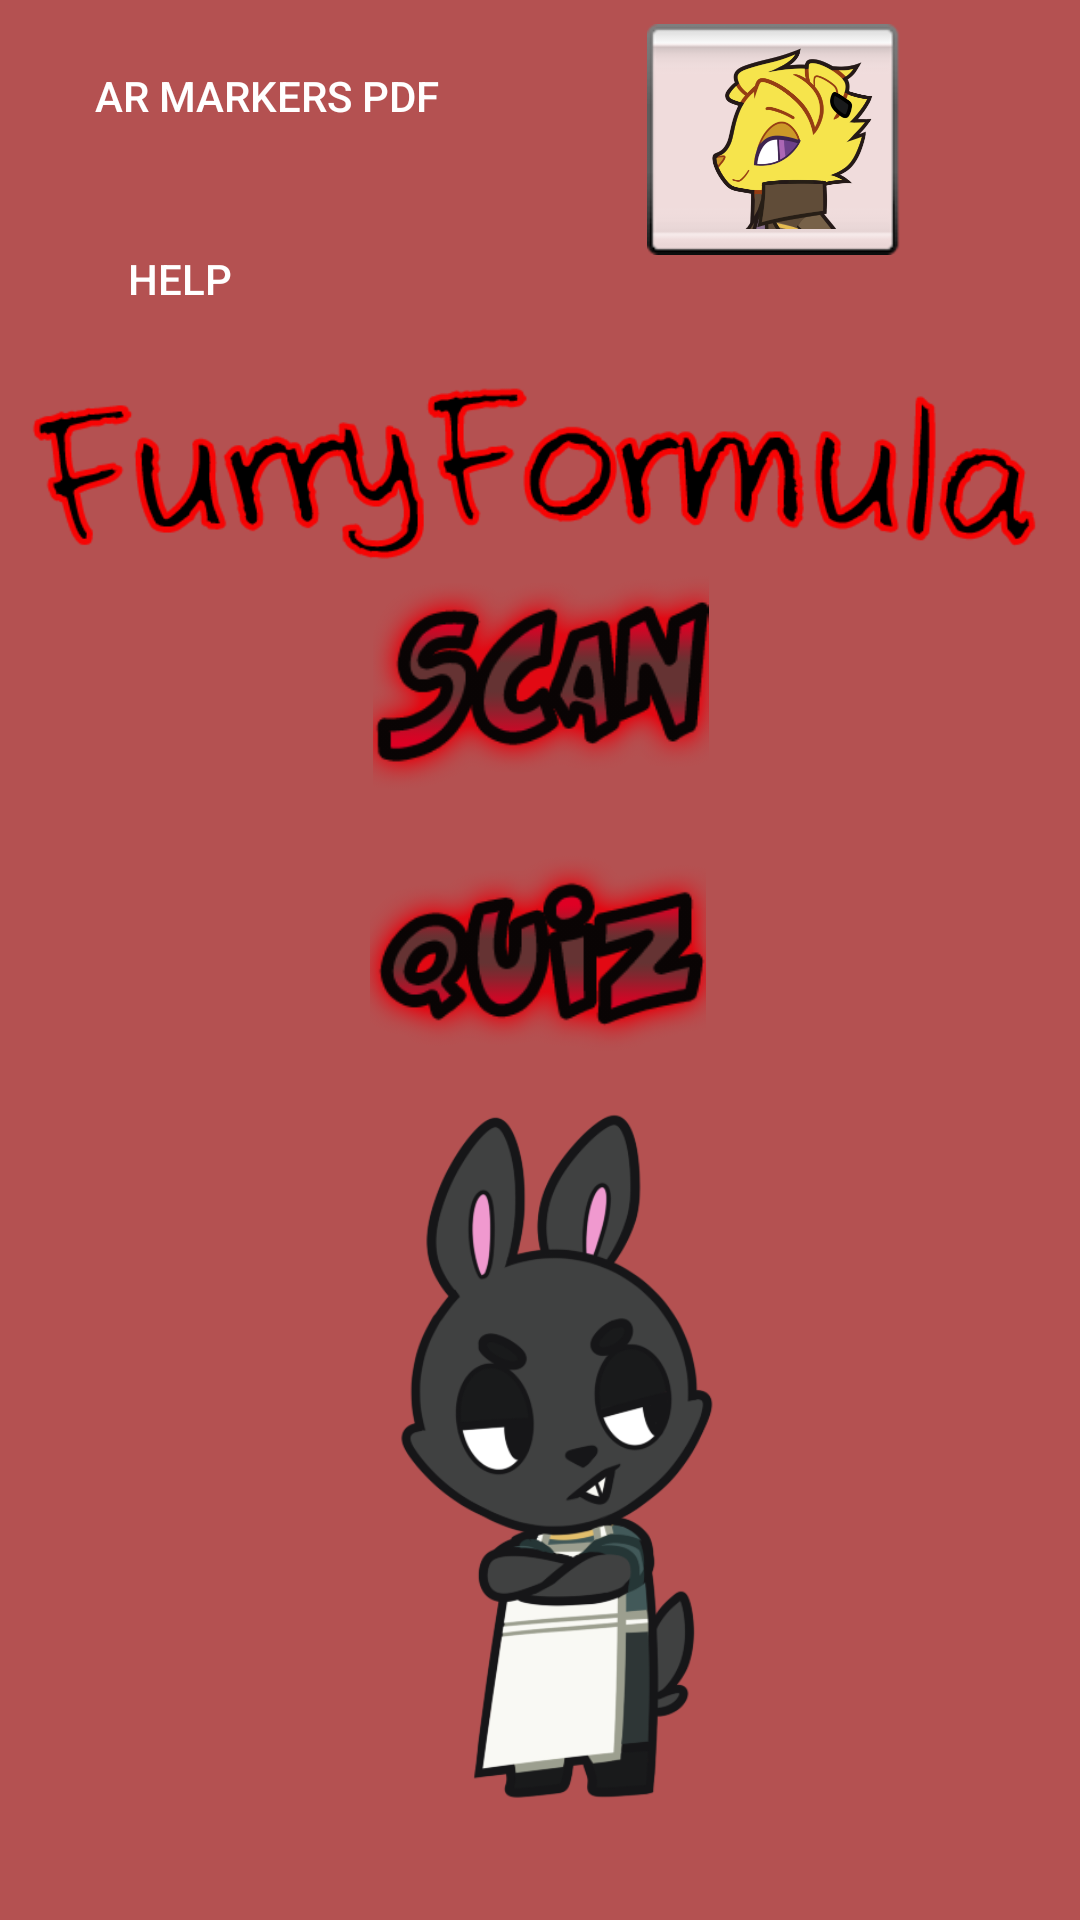

Screen size 1080w x 1920h. Icon name, then its box in pixels as detection(x1, y1, x2, y2):
playericon: detection(647, 24, 899, 255)
